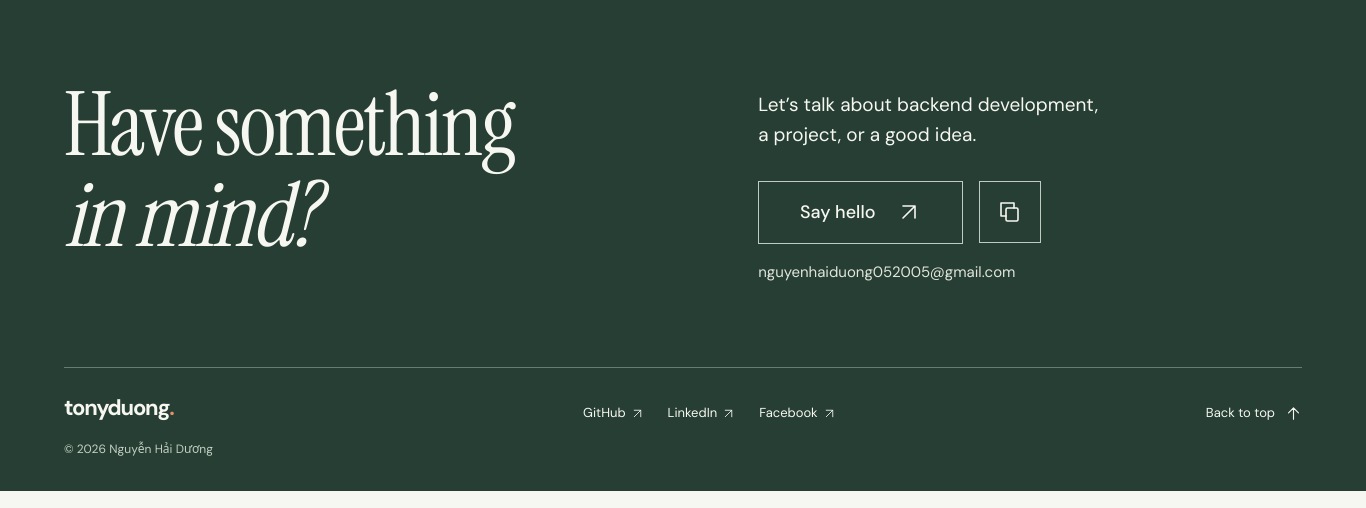
it: Email clipboard › copies the public email and announces success
Click the button named "Copy email address": (1010, 212) [979, 181, 1041, 243]
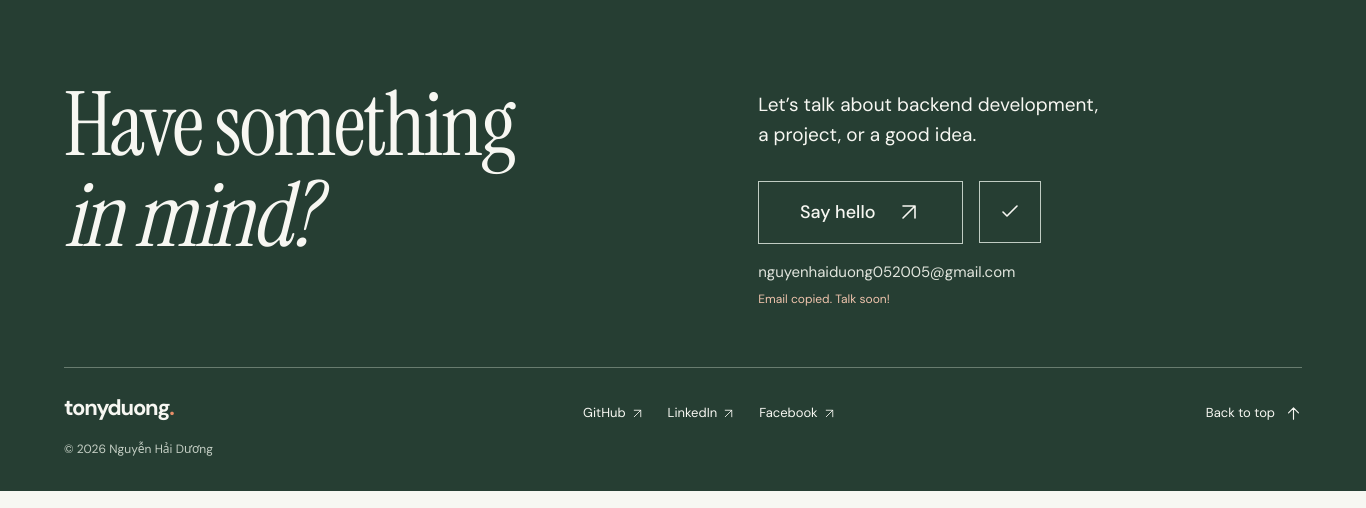
Now the message reads "Email copied. Talk soon!", box [758, 291, 890, 307]
